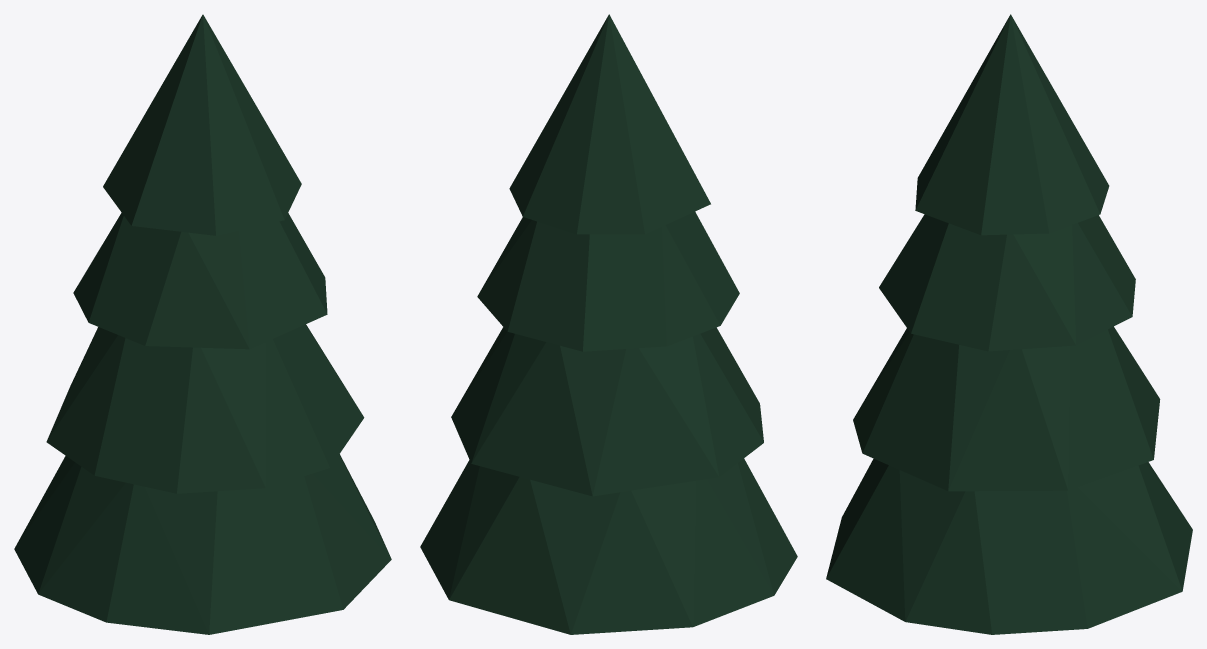
Rendered from tree11.fbx.
The picture shows the model from 3 angles, left to right: view 1: azimuth 30°, elevation 25°; view 2: azimuth 150°, elevation 25°; view 3: azimuth 270°, elevation 25°; orthographic projection.
Visible parts, largest first — view 1: treetype11; view 2: treetype11; view 3: treetype11.
Part boxes in pixels (x1,y1,x2,y2): treetype11: (14,14,391,634); treetype11: (420,14,797,634); treetype11: (826,14,1192,634).
Bounding box in the file's own units: 98.84 × 171 × 95.74.
